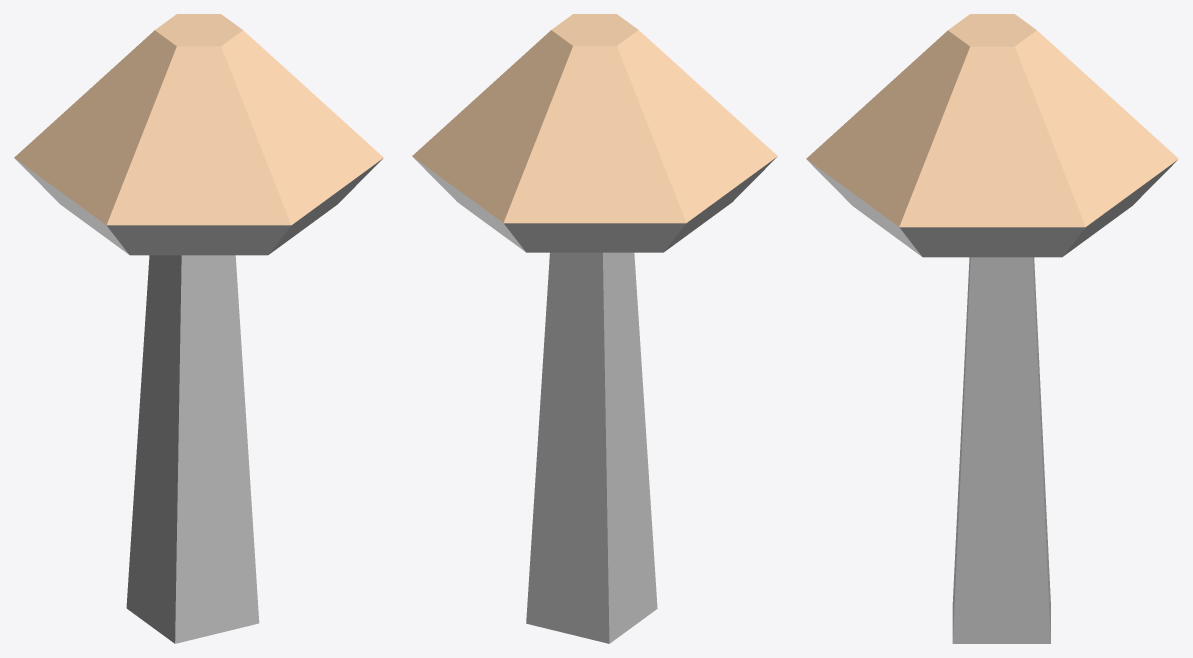
File: mushroom_tanTall.glb
3 renders of one model, left to right at view 1: azimuth 30°, elevation 25°; view 2: azimuth 150°, elevation 25°; view 3: azimuth 270°, elevation 25°, orthographic.
Visible parts, largest first — view 1: mushroom_tanTall; view 2: mushroom_tanTall; view 3: mushroom_tanTall.
Part boxes in pixels (x1,y1,x2,y2): mushroom_tanTall: (14,14,383,643); mushroom_tanTall: (412,14,777,643); mushroom_tanTall: (806,14,1178,643).
Size of the model in its own units: 0.1235 by 0.2505 by 0.1426.
